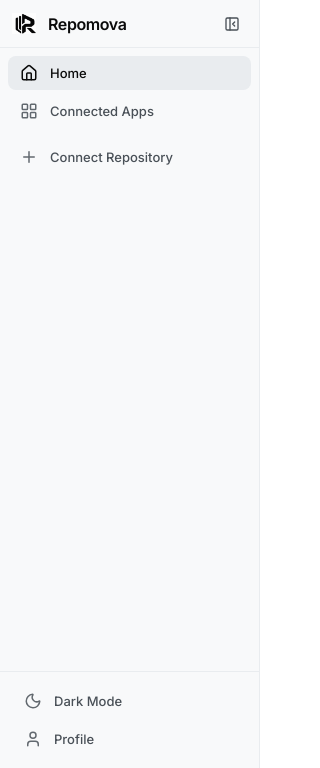
Test: Authentication Flow, Dedicated Pages & Profile Menu › Profile Menu for Signed-Out Users › closes the profile menu when pressing the Escape key
This screenshot has width=320, height=768.
Click the button "Profile": (130, 739) [12,722,247,756]
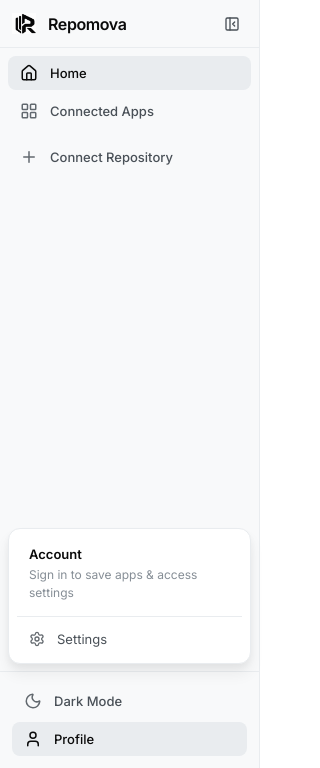
Expected: the menu is shown, [8,528,251,664]
Press Escape
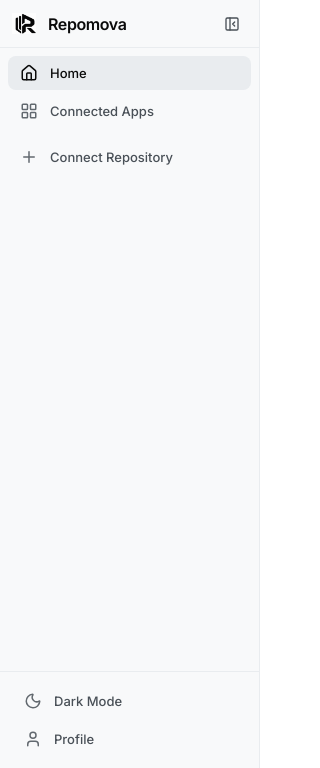
Expected: the menu is gone
